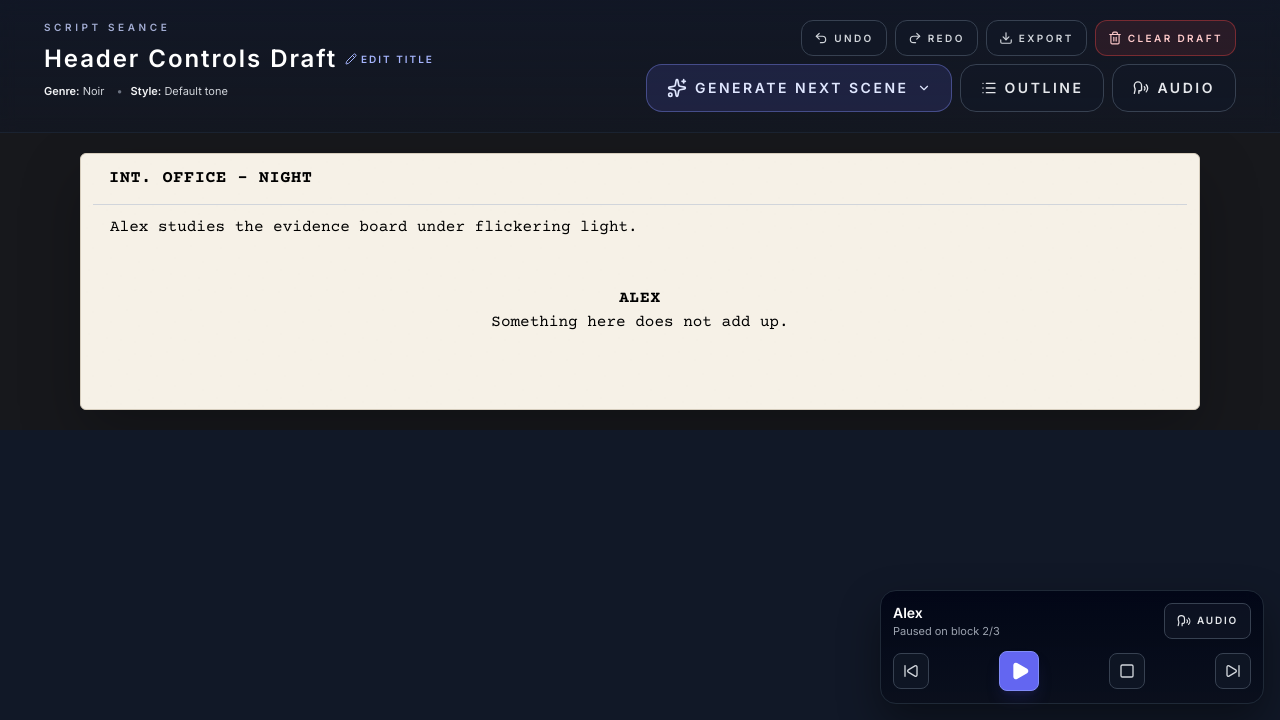
Scenario: ScriptPane header generation and audio drawer › shows the mini player for an active paused session and hides it when the full audio drawer opens
Expected: the element with test id "playback-mini-player" is shown, left=880, top=590, right=1264, bottom=704
Expected: the text "Paused on block 2/3" is shown, left=893, top=622, right=1000, bottom=639
Click the button with aria-label "Open full audio drawer".
click(1207, 620)  # box left=1164, top=602, right=1251, bottom=638
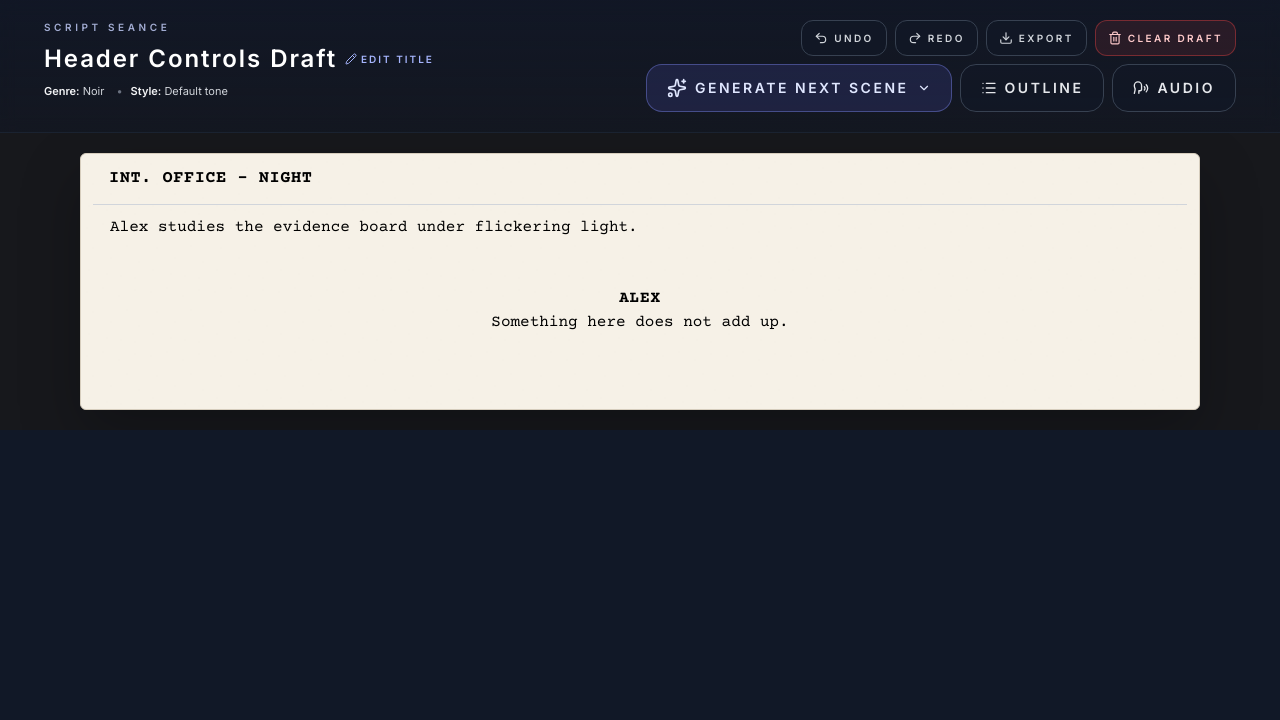
Expected: the element with test id "playback-mini-player" is gone
